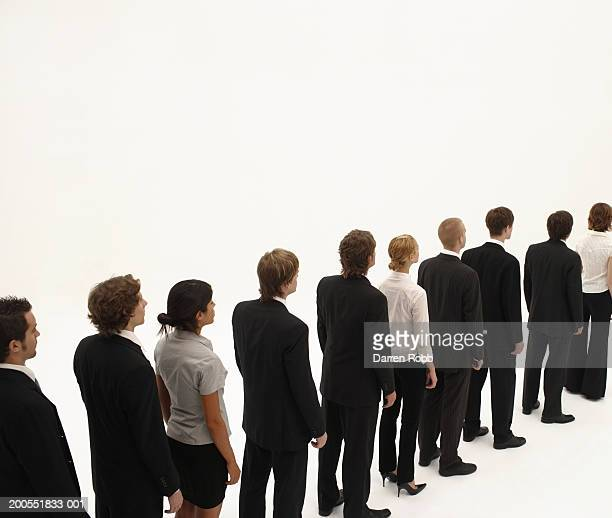person: (71, 275, 185, 518), (232, 250, 328, 518), (317, 230, 391, 518), (156, 279, 242, 518), (1, 300, 89, 518), (416, 216, 487, 476), (462, 206, 529, 450), (378, 235, 439, 498), (520, 211, 584, 427), (575, 202, 612, 402)
